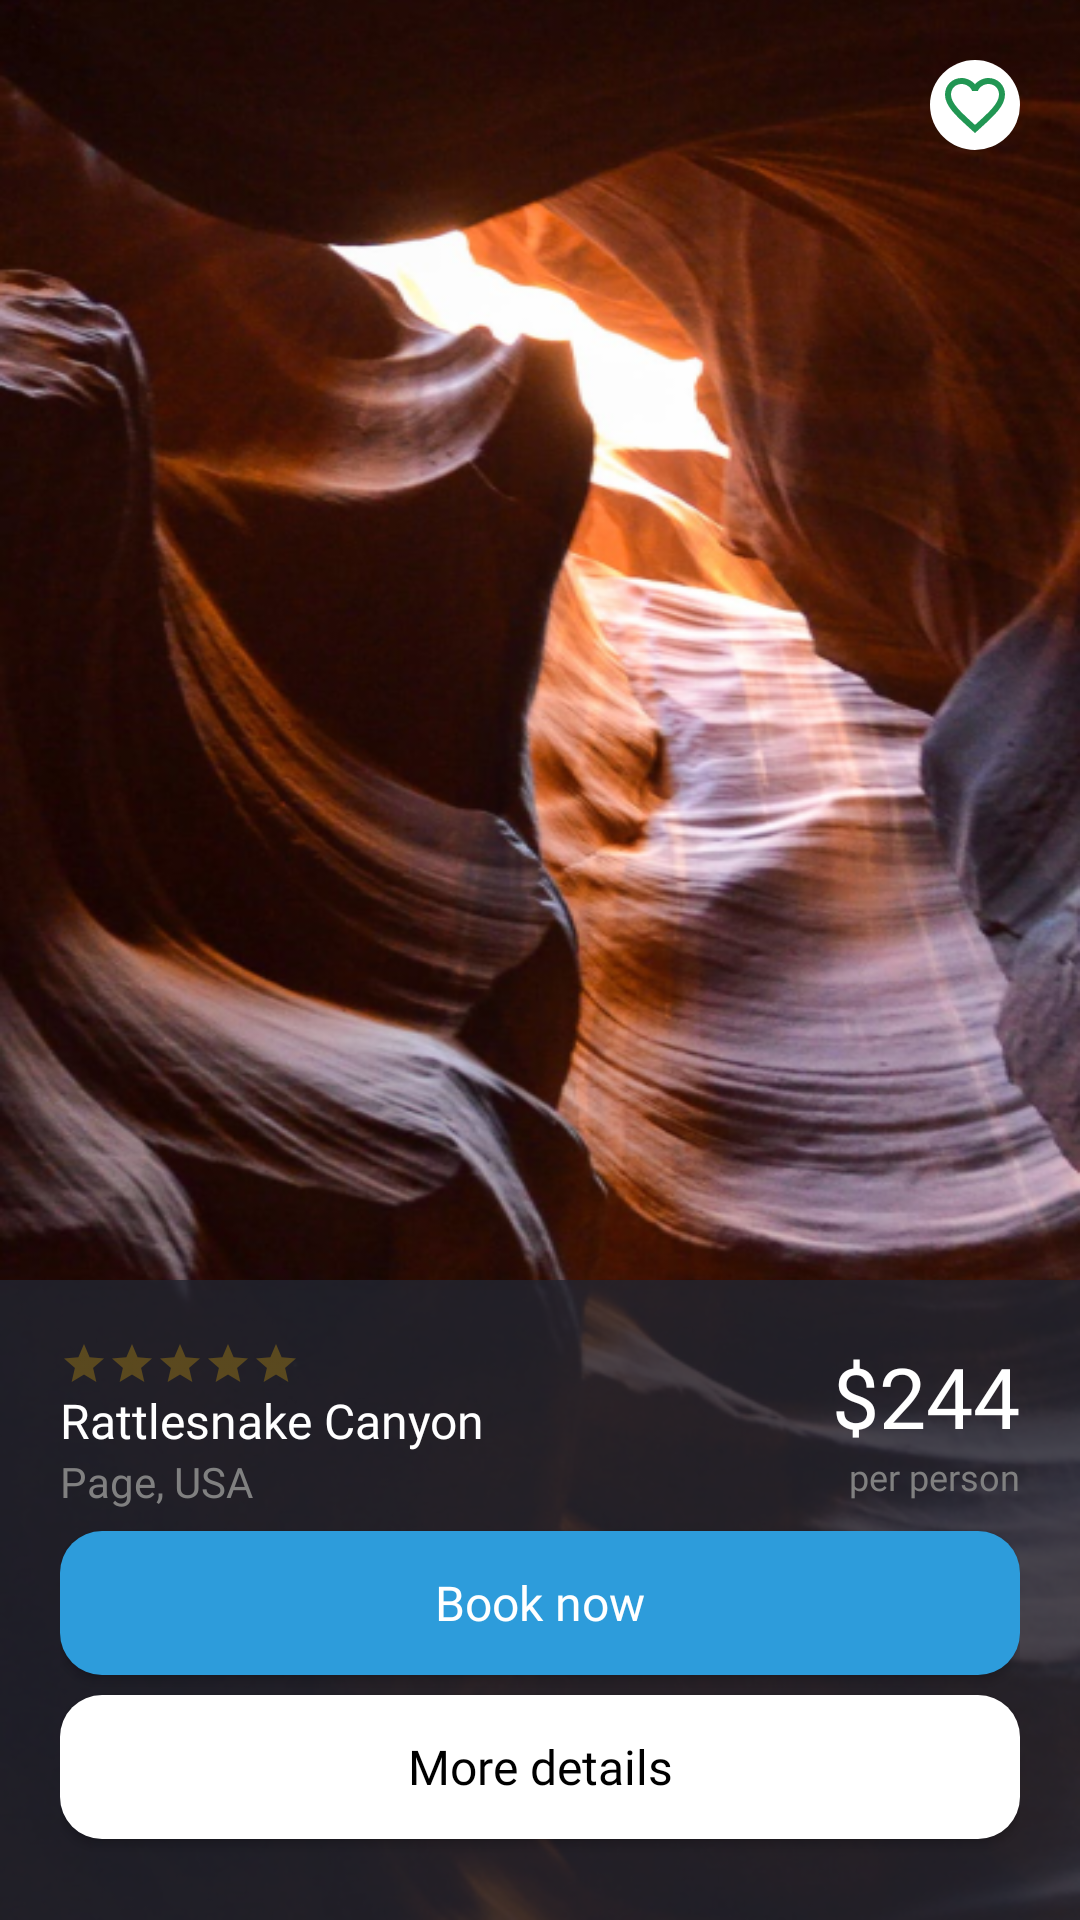

Locate icon controls on the screen. Image size 1080px×1920px, boxes as (x1, y1, x2, y2).
favorite border: (930, 60, 1020, 150)
